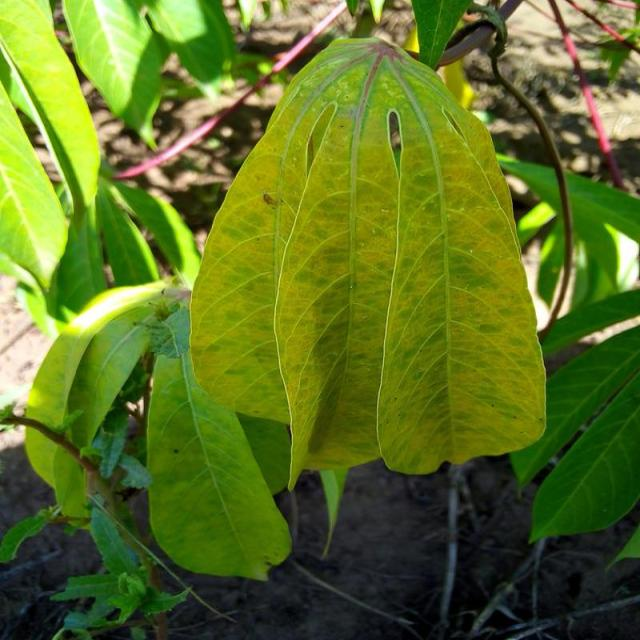cassava leaf: (188, 34, 549, 491), (146, 308, 294, 582)
